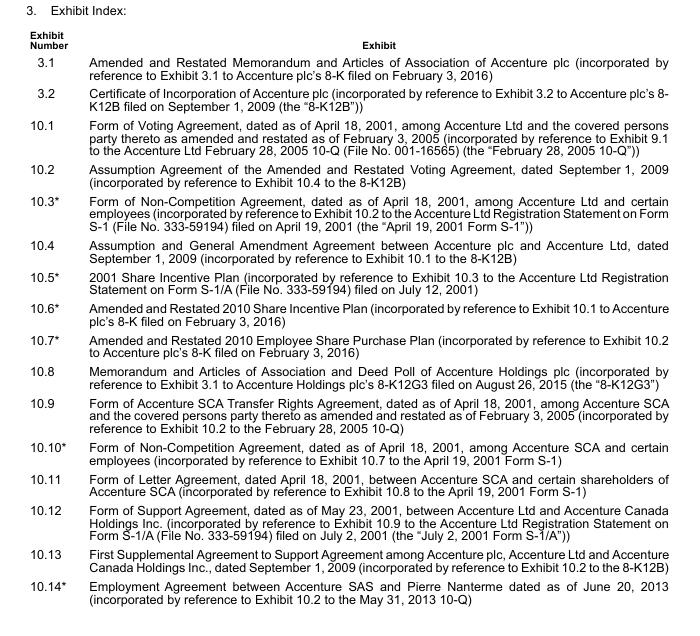table: (28, 28, 668, 605)
table column: (77, 28, 668, 605), (28, 28, 77, 605)
table column header: (28, 28, 668, 52)
table row: (28, 190, 668, 235), (28, 392, 668, 437), (28, 115, 668, 159), (28, 500, 668, 544), (28, 83, 668, 115), (28, 266, 668, 298), (28, 329, 668, 361), (28, 468, 668, 500), (28, 544, 668, 576), (28, 52, 668, 83), (28, 159, 668, 190), (28, 235, 668, 266), (28, 298, 668, 329), (28, 361, 668, 392), (28, 437, 668, 468), (28, 576, 668, 605), (28, 28, 668, 52)
